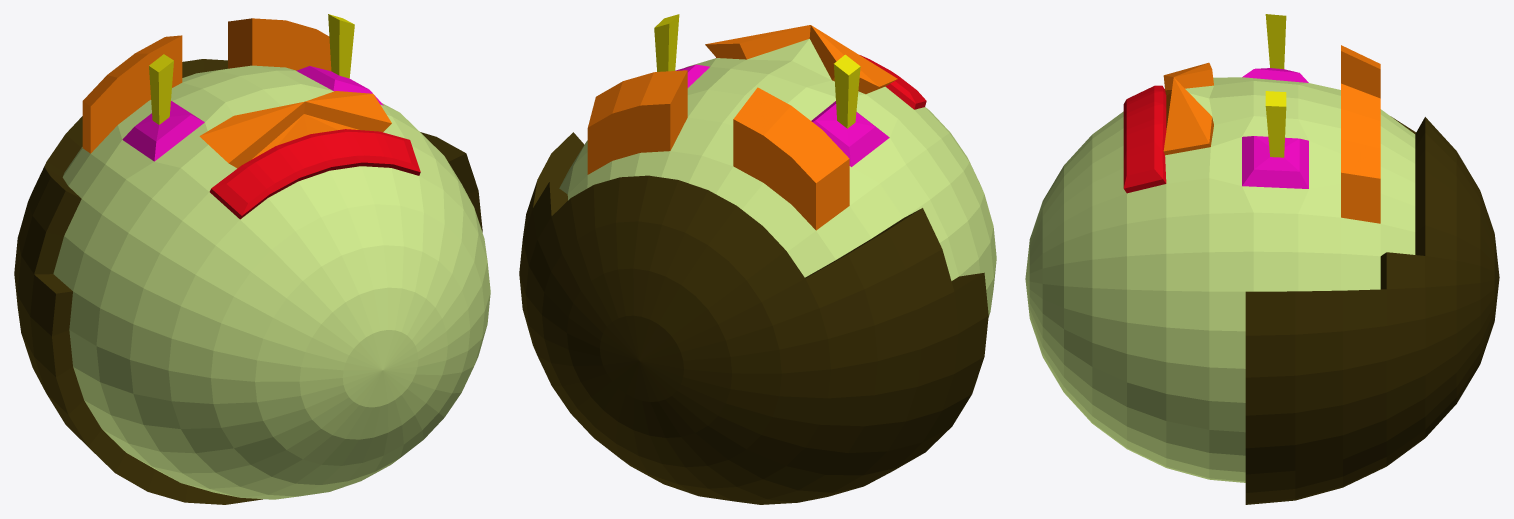
The model's file is CrazyFrog.fbx.
3 views of the same model, side by side, from view 1: azimuth 30°, elevation 25°; view 2: azimuth 150°, elevation 25°; view 3: azimuth 270°, elevation 25° (orthographic). The views are drawn at different scales.
Parts seen in each view (by area): view 1: Sphere; view 2: Sphere; view 3: Sphere.
Part boxes in pixels (x1,y1,x2,y2): Sphere: (14, 14, 490, 504); Sphere: (519, 14, 996, 504); Sphere: (1025, 14, 1499, 504).
Size of the model in its own units: 1 by 1 by 1.
